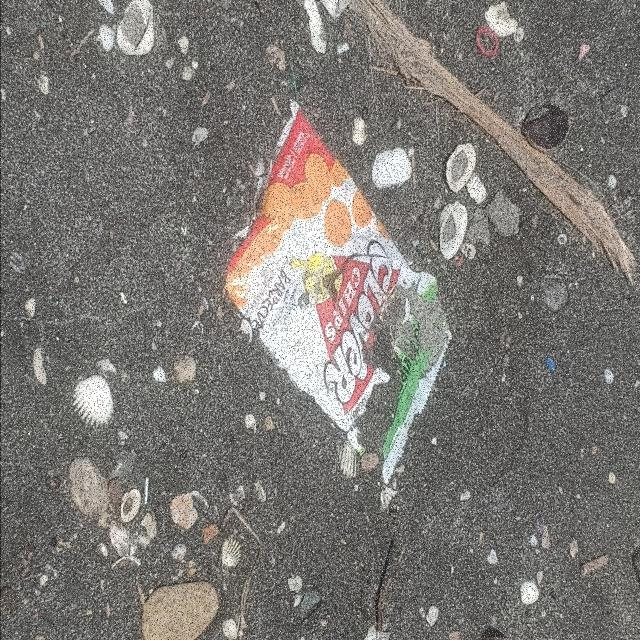plastic_waste: (223, 99, 455, 488)
